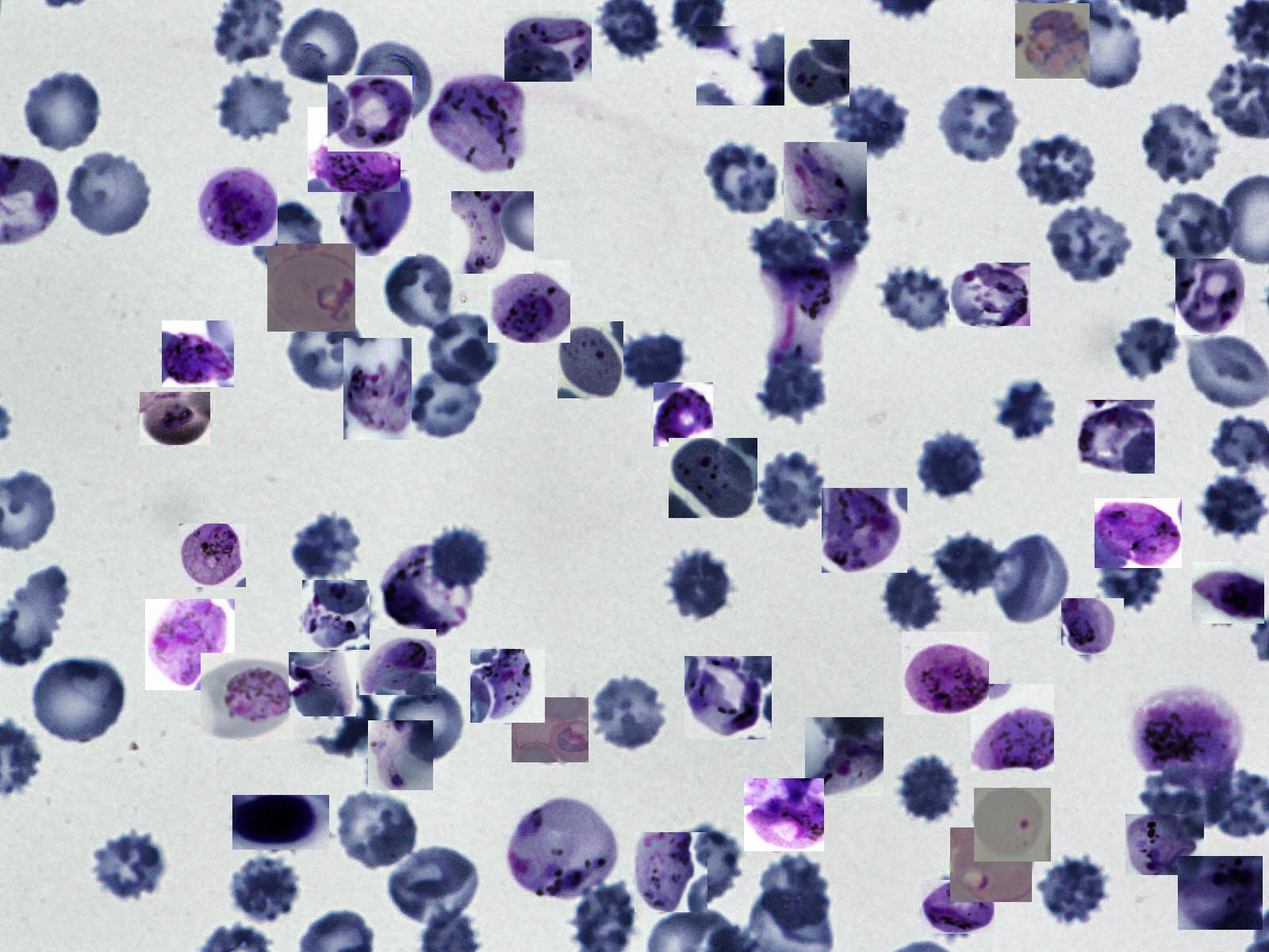Infected: (762, 246, 861, 370), (507, 793, 616, 901), (1129, 688, 1244, 785), (430, 75, 527, 173), (381, 542, 474, 637), (145, 600, 235, 691), (201, 653, 293, 739), (308, 107, 401, 192), (267, 244, 355, 332), (902, 631, 989, 715), (684, 656, 772, 739), (822, 489, 907, 574), (971, 684, 1054, 771), (696, 26, 784, 106), (669, 438, 757, 518), (343, 338, 412, 440), (451, 191, 534, 274), (488, 260, 570, 343), (784, 142, 867, 221), (340, 170, 416, 256), (328, 75, 412, 152), (197, 167, 278, 246), (504, 10, 592, 82), (805, 717, 884, 797), (1178, 856, 1263, 930), (950, 827, 1032, 902), (1095, 498, 1182, 568), (744, 778, 824, 851), (634, 832, 707, 912), (1077, 400, 1155, 474), (1015, 3, 1090, 79), (974, 788, 1051, 862), (470, 649, 545, 723), (232, 795, 329, 850), (1175, 259, 1244, 335), (949, 263, 1030, 326), (360, 629, 436, 695), (558, 322, 623, 399), (512, 697, 588, 762), (1125, 814, 1204, 875), (302, 580, 370, 650), (162, 321, 234, 387), (368, 720, 433, 790), (1192, 562, 1264, 624), (289, 652, 356, 716), (786, 40, 849, 107), (179, 524, 246, 587), (922, 880, 995, 934), (654, 382, 713, 447), (140, 392, 210, 445), (1061, 599, 1124, 655)
Uninfected: (29, 652, 131, 747), (63, 148, 154, 238), (385, 843, 480, 927), (350, 39, 435, 129), (993, 532, 1072, 626), (1042, 204, 1136, 283), (1141, 99, 1229, 182), (284, 309, 370, 393), (934, 82, 1022, 164), (333, 788, 422, 869), (278, 5, 362, 90), (384, 679, 467, 765), (24, 68, 105, 152), (1141, 759, 1235, 831), (1152, 186, 1236, 264), (82, 831, 171, 904), (588, 674, 671, 752), (669, 824, 744, 908), (701, 139, 783, 215), (239, 197, 319, 274), (1015, 132, 1100, 204), (829, 85, 908, 162), (227, 850, 306, 926), (213, 67, 293, 142), (405, 365, 483, 438), (757, 853, 830, 931), (1034, 856, 1113, 928), (664, 544, 735, 623), (384, 255, 454, 329), (758, 451, 825, 528), (756, 357, 829, 427), (1097, 539, 1167, 611), (918, 428, 989, 498), (290, 513, 362, 580), (880, 568, 953, 634), (895, 756, 964, 824), (1198, 474, 1267, 539), (808, 191, 872, 261), (878, 267, 951, 328), (431, 313, 495, 382), (1117, 313, 1182, 378), (935, 532, 1003, 593), (619, 331, 688, 391), (995, 380, 1059, 442), (430, 527, 493, 589), (747, 217, 817, 271)
